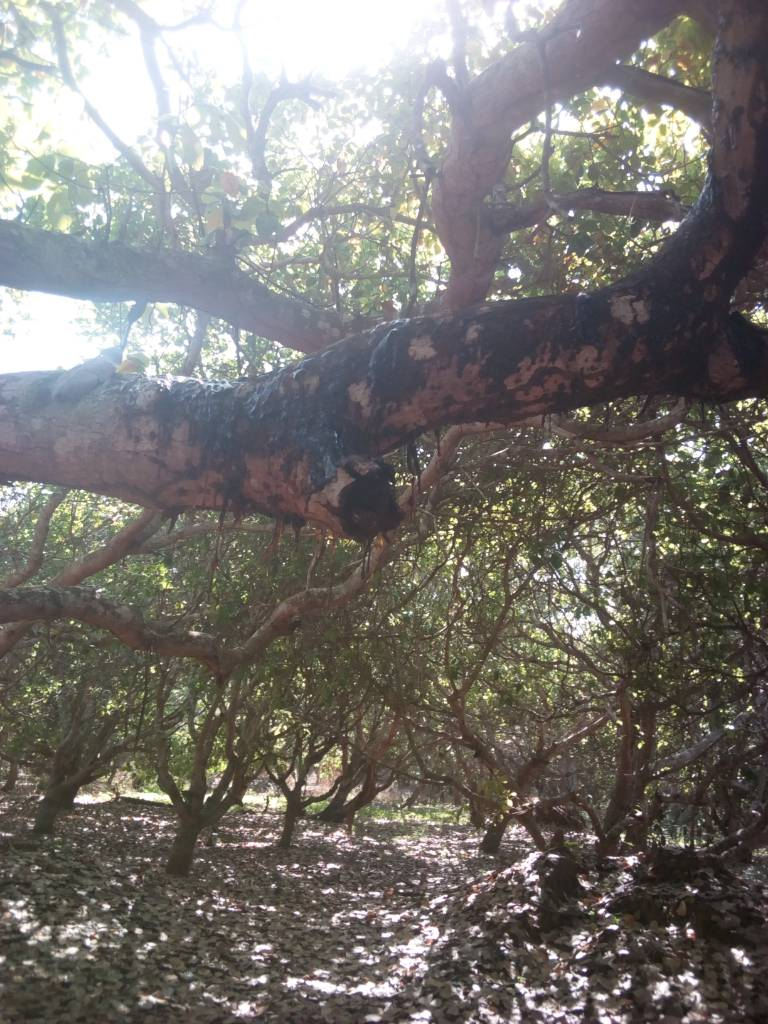Gommose: (163, 235, 768, 478)
